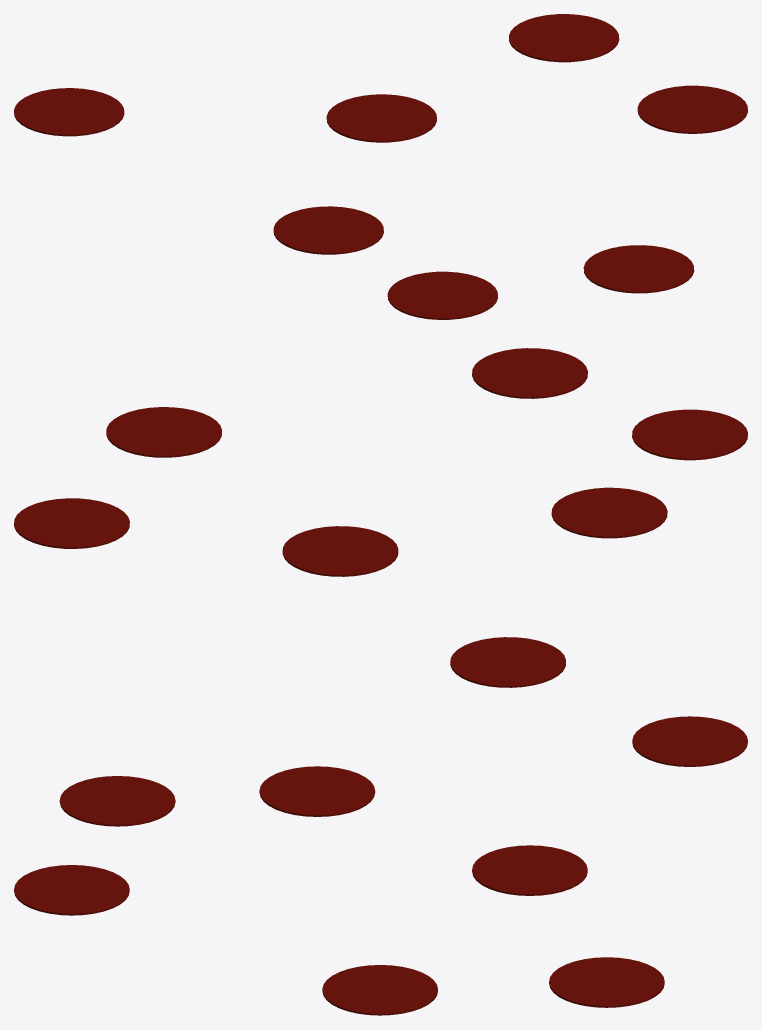
File: peperoni layer.fbx
3 renders of one model, top to bottom at view 1: azimuth 30°, elevation 25°; view 2: azimuth 150°, elevation 25°; view 3: azimuth 270°, elevation 25°, orthographic. The views are drawn at different scales.
Visible parts, largest first — view 1: peperoni layer; view 2: peperoni layer; view 3: peperoni layer.
Boxes of the visible parts, bbox=[...] form: peperoni layer: bbox=[14, 14, 747, 319]; peperoni layer: bbox=[14, 348, 747, 687]; peperoni layer: bbox=[14, 716, 747, 1015].
Size of the model in its own units: 1538 by 24.65 by 1634.
